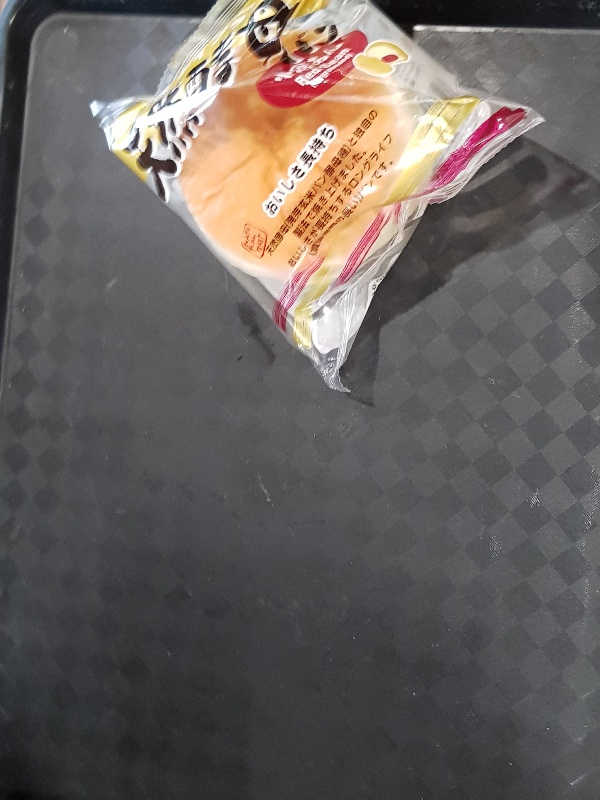Dayplus Red Bean: (89, 1, 544, 394)
